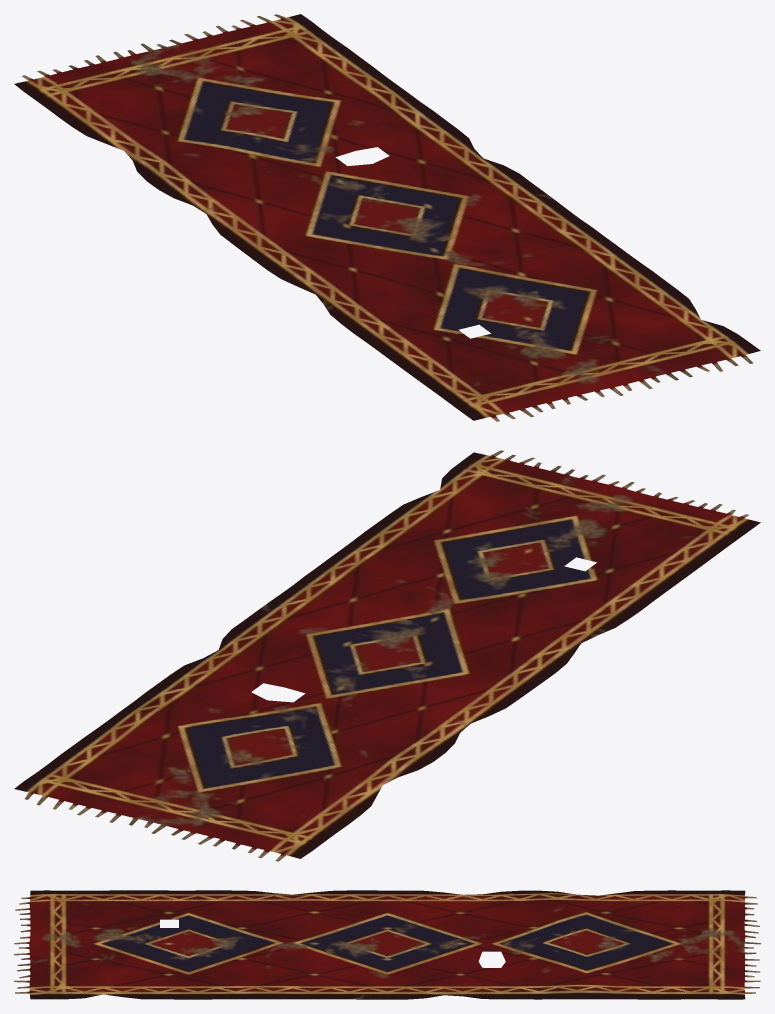
The model's file is decal_rug.glb.
3 views of the same model, one above another, from view 1: azimuth 30°, elevation 25°; view 2: azimuth 150°, elevation 25°; view 3: azimuth 270°, elevation 25° (orthographic). The views are drawn at different scales.
Visible parts, largest first — view 1: decal_rug; view 2: decal_rug; view 3: decal_rug.
Part boxes in pixels (x1,y1,x2,y2): decal_rug: (14,14,760,421); decal_rug: (14,450,760,861); decal_rug: (14,890,760,999).
Size of the model in its own units: 1.36 by 0.0203 by 3.94.
Materials: 1 (1 with a texture image).
